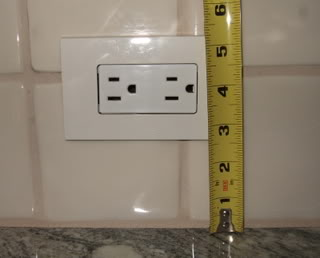outlet: (161, 72, 197, 103), (104, 73, 139, 104)
